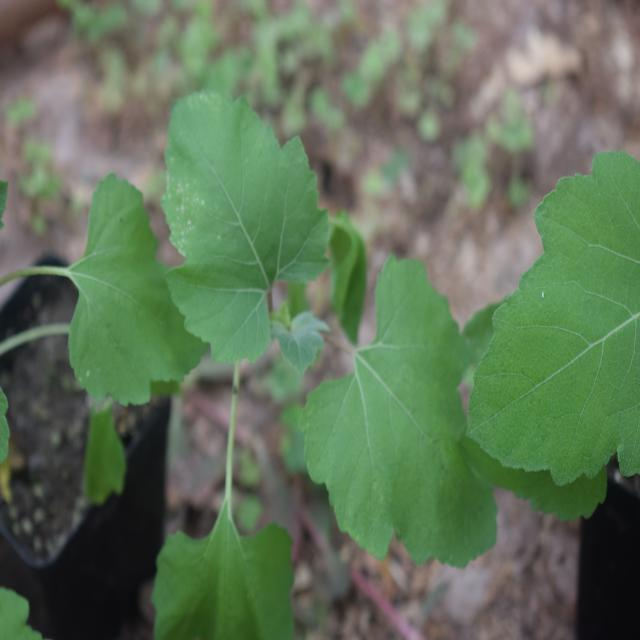cocklebur: (41, 106, 502, 590)
